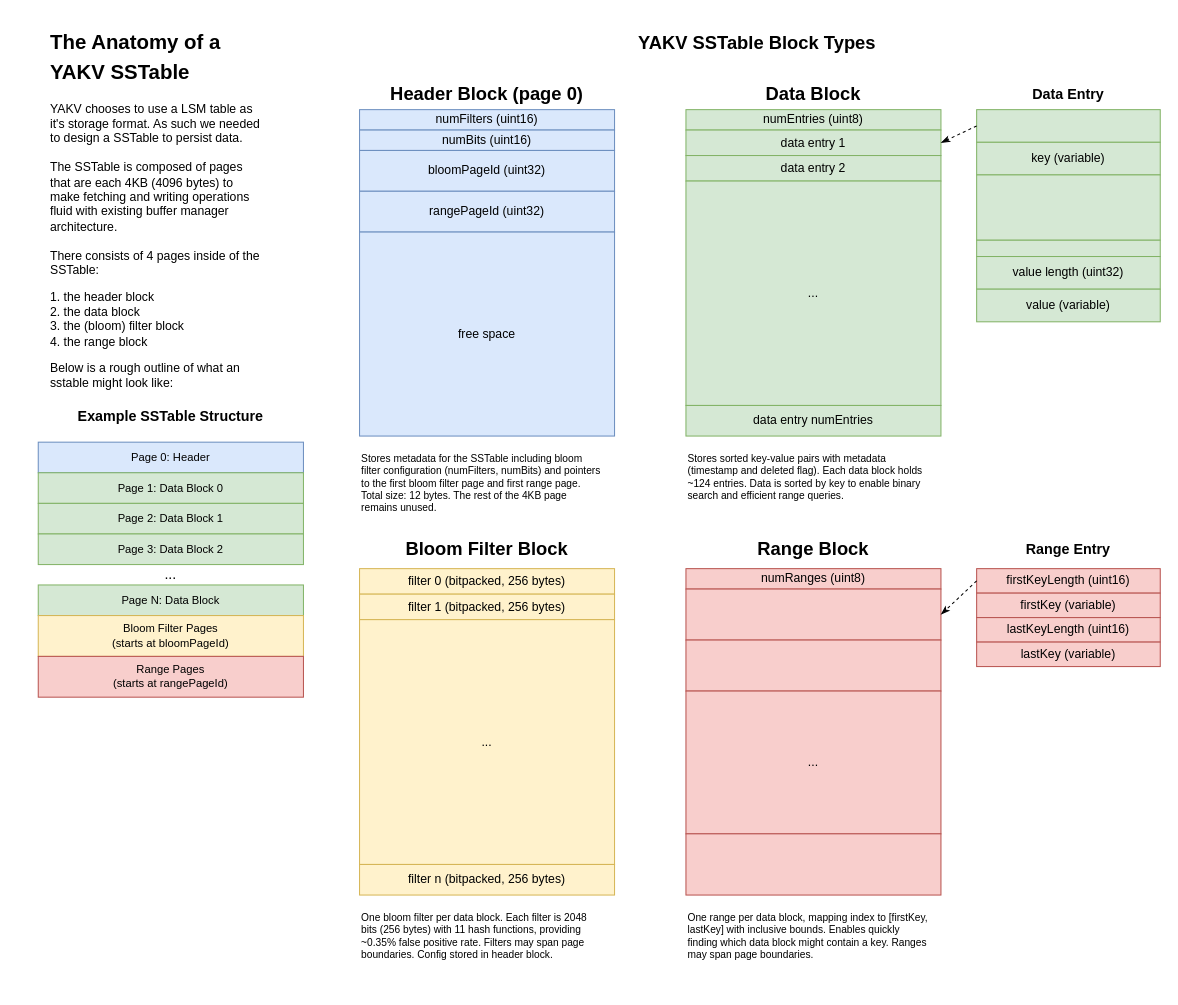
Some shapes in this 1178 by 1005 pixel diagram are drawn without their labels. The box of each missing label's shape, as (x1, y1, x2, y2) in pixels:
deleted (uint8): (976, 239, 1160, 257)
key length (uint32): (976, 109, 1160, 142)
range 0: (685, 588, 941, 640)
range 1: (685, 639, 941, 691)
range n: (685, 833, 941, 895)
timestamp (uint64): (976, 174, 1160, 240)
